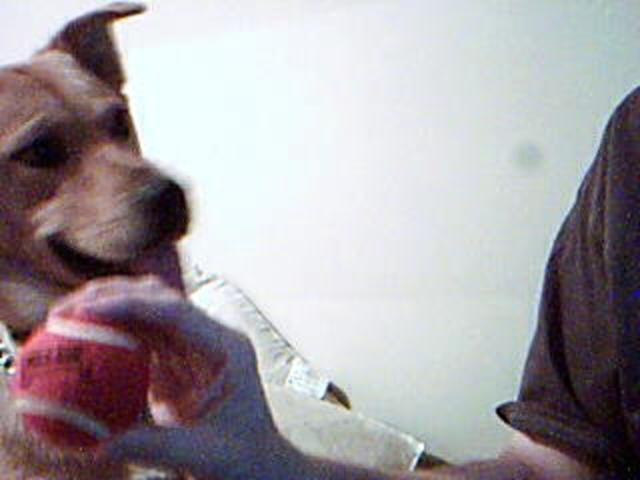Dog: (0, 0, 192, 478)
